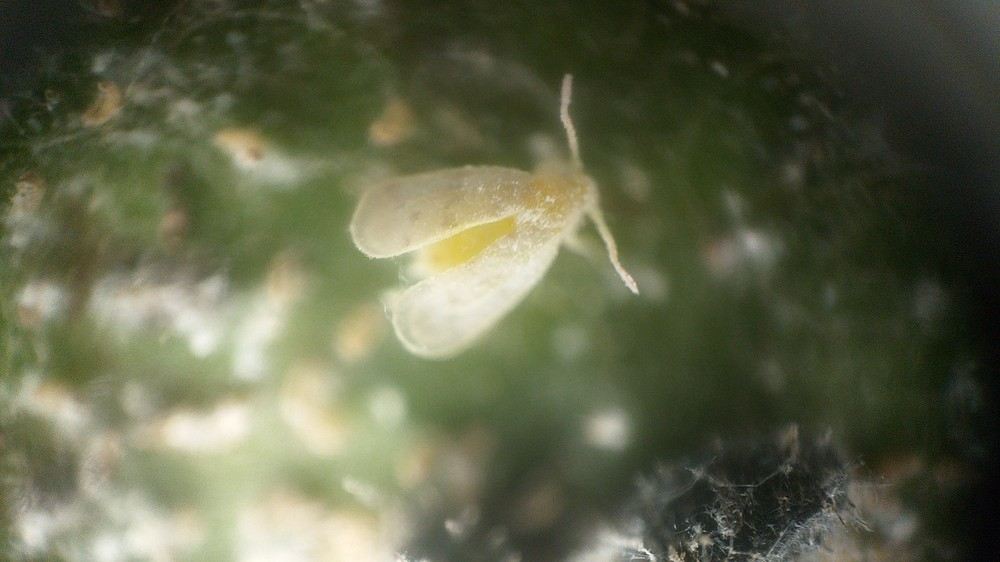Mosca Blanca: (340, 62, 662, 376)
